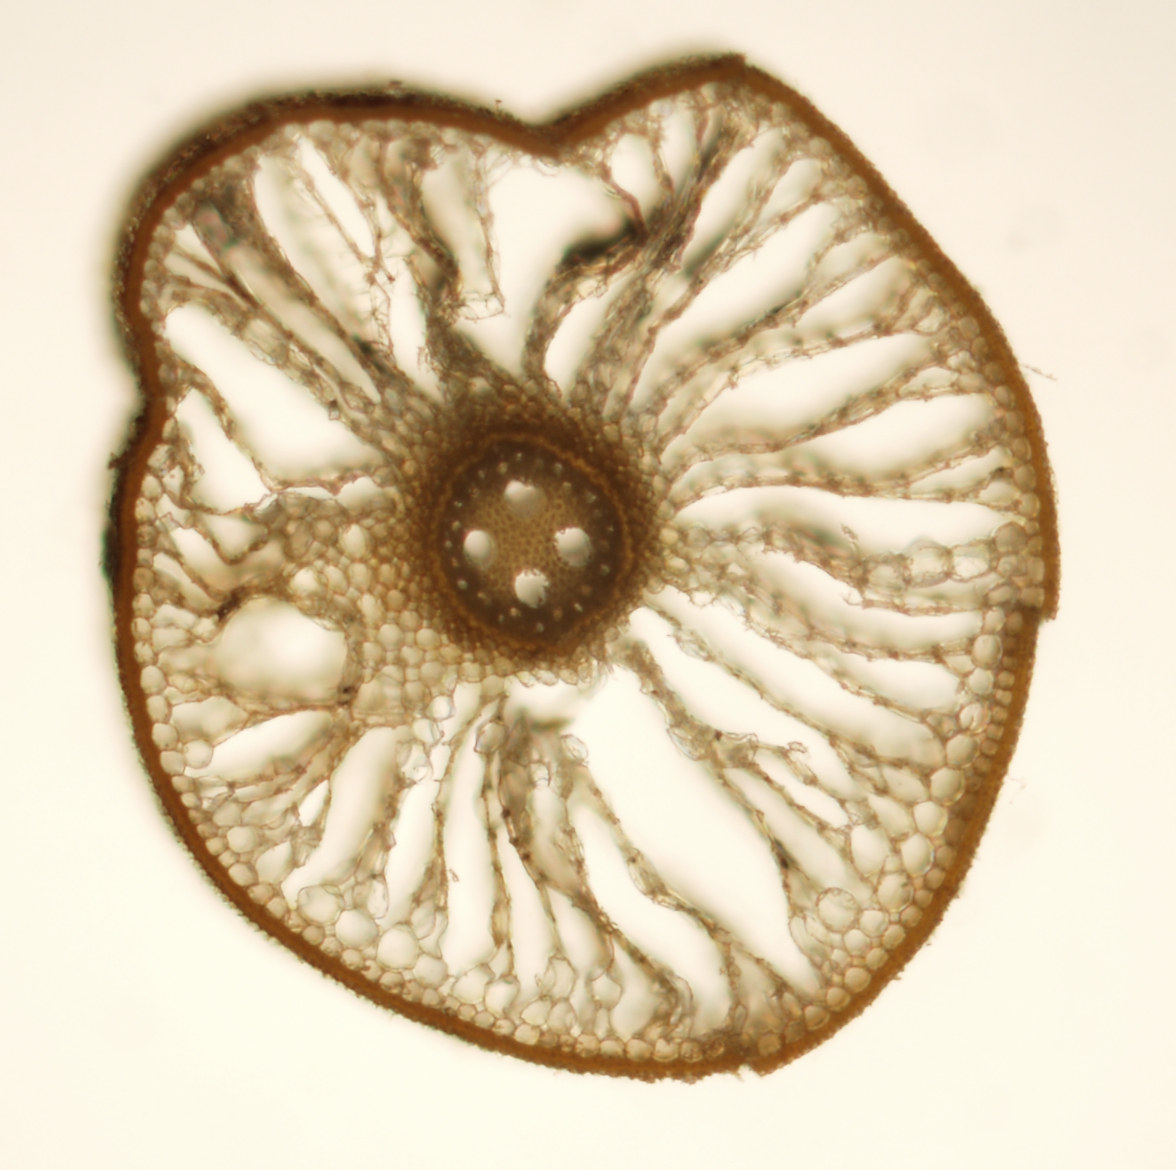lm: (503, 478, 549, 523), (553, 527, 593, 568), (463, 529, 499, 573), (513, 568, 549, 610)
